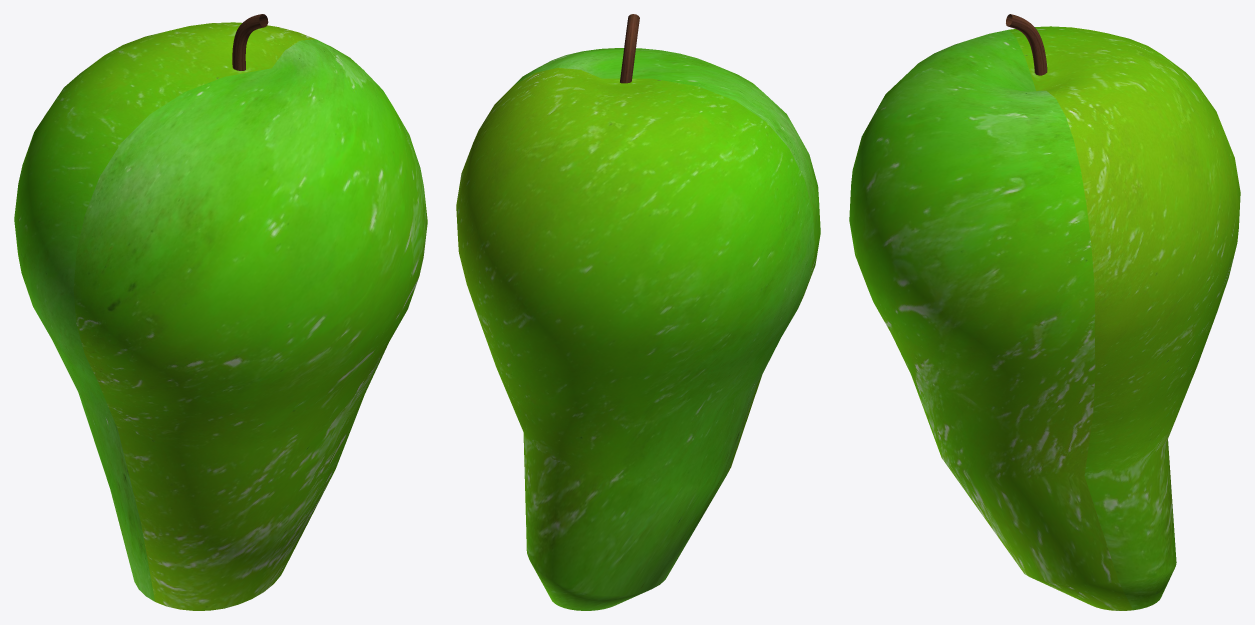
Rendered from mangga.glb.
3 renders of one model, left to right at view 1: azimuth 30°, elevation 25°; view 2: azimuth 150°, elevation 25°; view 3: azimuth 270°, elevation 25°, orthographic. The views are drawn at different scales.
Parts seen in each view (by area): view 1: Sphere, NurbsPath; view 2: Sphere, NurbsPath; view 3: Sphere, NurbsPath.
Part boxes in pixels (x1=…): Sphere: x1=14, y1=22, x2=427, y2=610; NurbsPath: x1=232, y1=14, x2=268, y2=70; Sphere: x1=456, y1=48, x2=820, y2=610; NurbsPath: x1=620, y1=14, x2=639, y2=83; Sphere: x1=849, y1=26, x2=1240, y2=610; NurbsPath: x1=1006, y1=14, x2=1047, y2=75.
Size of the model in its own units: 0.3878 by 0.6486 by 0.3874.
2 materials, 2 textured.
